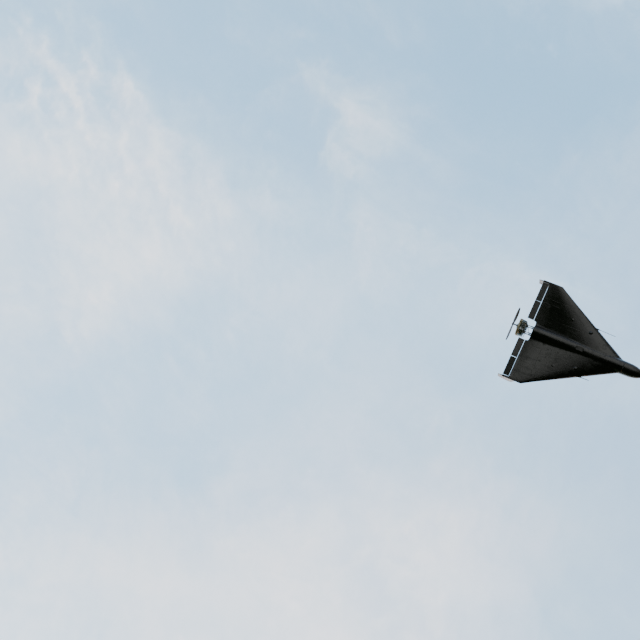shahed: (498, 279, 640, 383)
